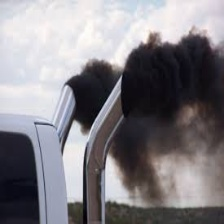smoke: (69, 34, 224, 164)
